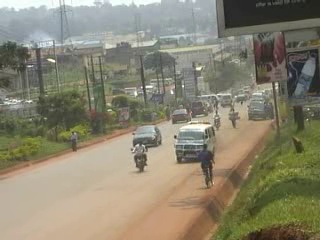Car: (129, 123, 163, 148), (190, 98, 210, 118), (170, 105, 191, 124), (187, 120, 212, 127), (235, 93, 247, 103), (204, 100, 213, 112)
Motorcycle: (128, 144, 148, 173), (212, 115, 223, 131)
